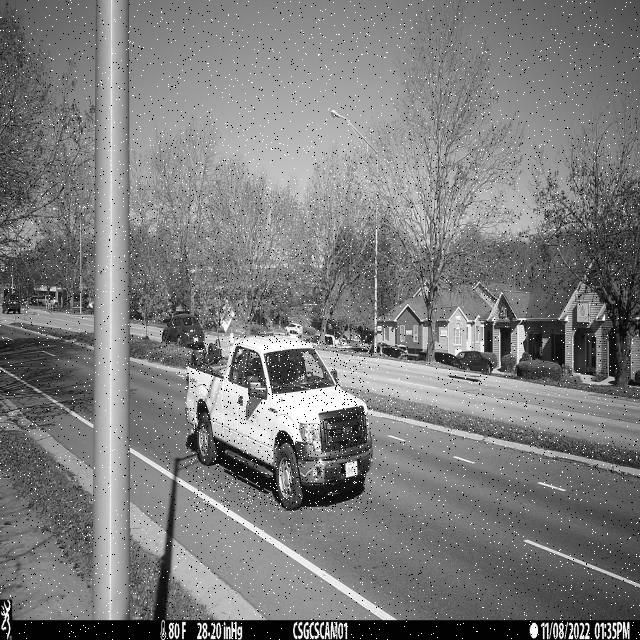Pickup: (185, 335, 372, 512)
